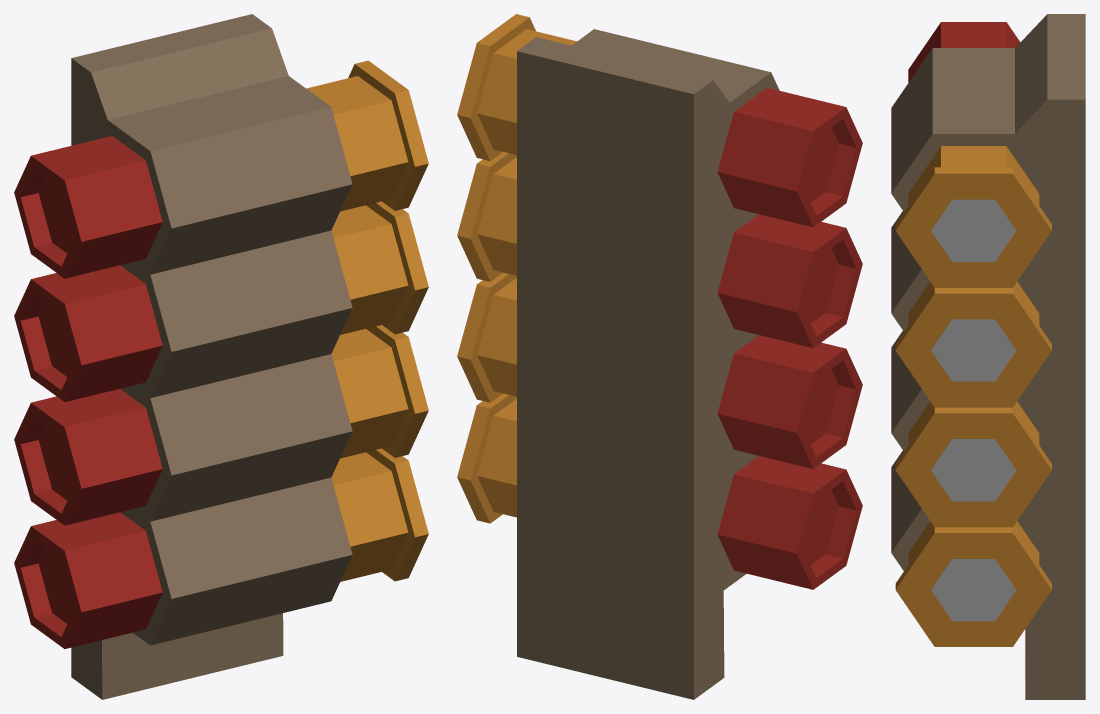
File: Bullets_01_SM.FBX
3 renders of one model, left to right at view 1: azimuth 30°, elevation 25°; view 2: azimuth 150°, elevation 25°; view 3: azimuth 270°, elevation 25°, orthographic. The views are drawn at different scales.
Visible parts, largest first — view 1: Bullets_01_SM; view 2: Bullets_01_SM; view 3: Bullets_01_SM.
Boxes of the visible parts, x1,y1,x2,y2 form: Bullets_01_SM: (14, 14, 428, 699); Bullets_01_SM: (457, 14, 862, 699); Bullets_01_SM: (891, 14, 1085, 699).
Size of what is drawn, in the model's own units: 4.62 by 2.36 by 8.02.
